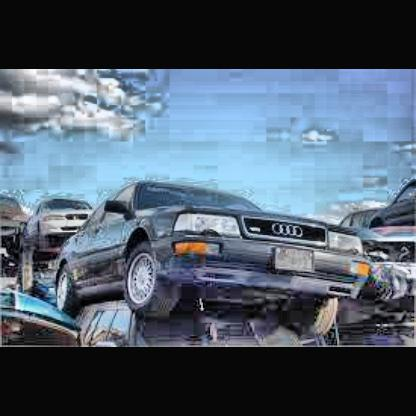Audi V8 Sedan 1994: (59, 181, 370, 339)
